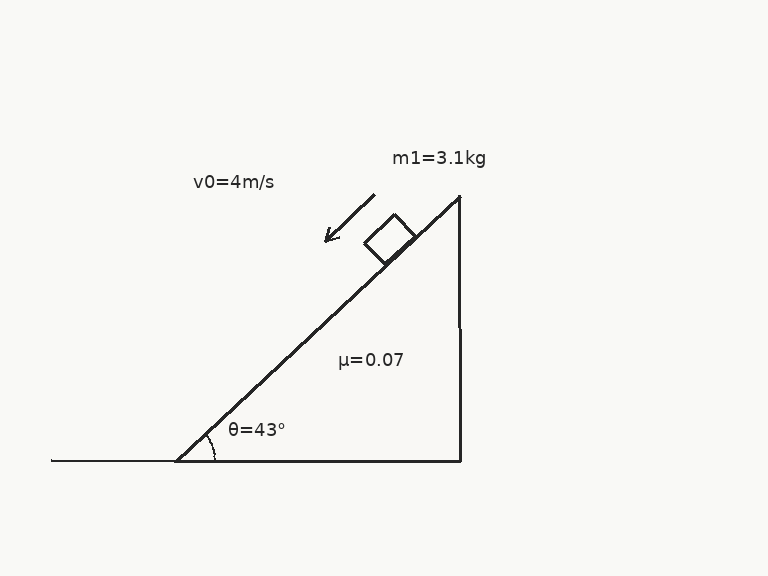block: (362, 212, 417, 267)
ramp: (173, 193, 461, 462)
